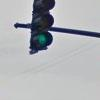Traffic light: (21, 5, 59, 57)
